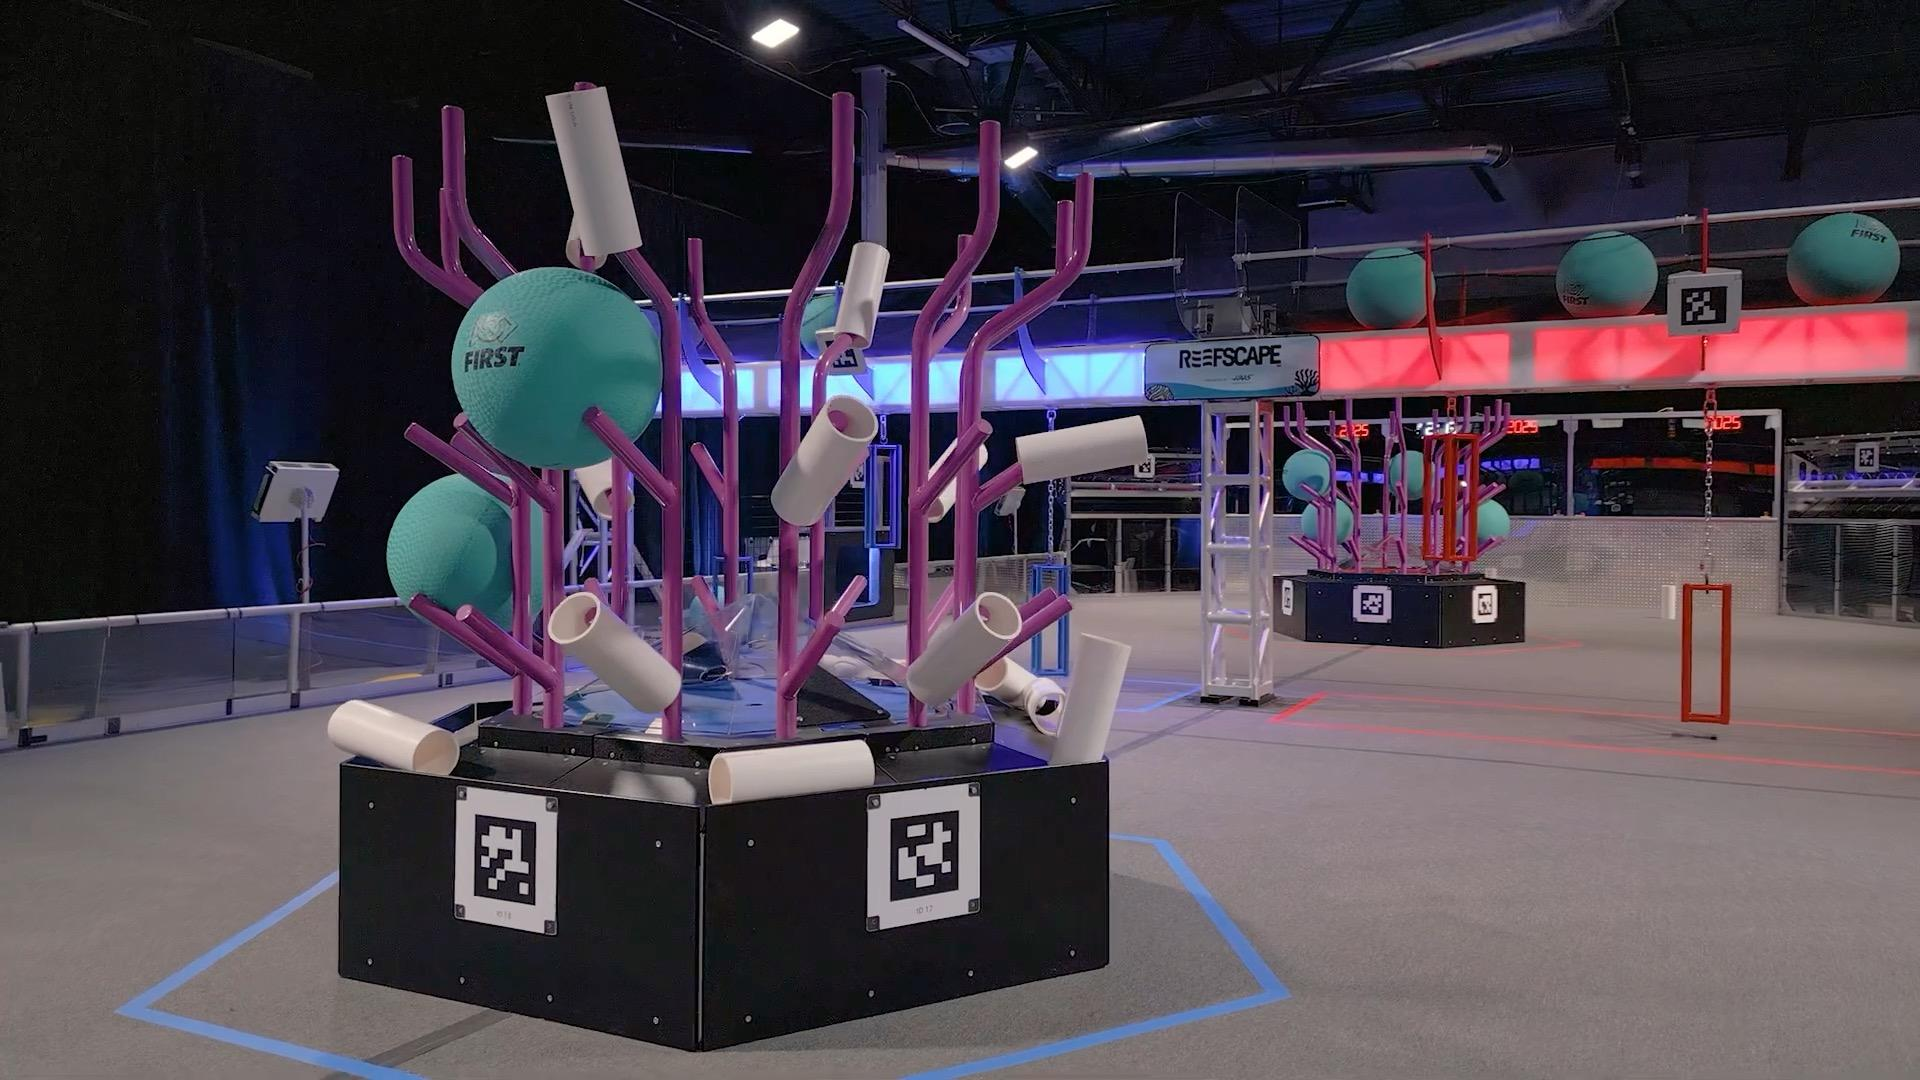ALGAE: (448, 264, 663, 469), (385, 471, 550, 632), (1785, 210, 1902, 305), (1553, 229, 1658, 316), (1345, 247, 1433, 328), (796, 290, 839, 356), (1299, 495, 1353, 545), (1280, 448, 1331, 502), (1387, 448, 1427, 500), (1476, 498, 1509, 541)
CORAL: (545, 82, 642, 266), (546, 588, 680, 713), (769, 393, 877, 527), (905, 589, 1021, 705), (705, 736, 876, 804), (1047, 629, 1130, 766), (326, 696, 458, 775), (1013, 413, 1149, 484), (822, 239, 890, 351)
